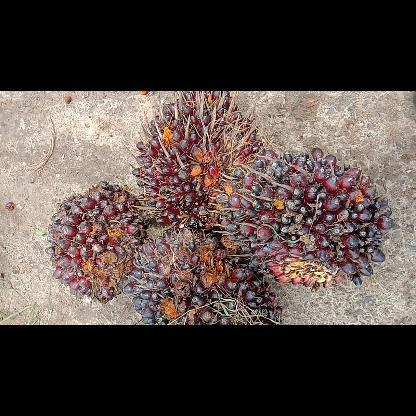Kurang masak: (210, 144, 395, 292), (130, 90, 264, 233), (122, 226, 286, 324), (43, 177, 151, 308)
